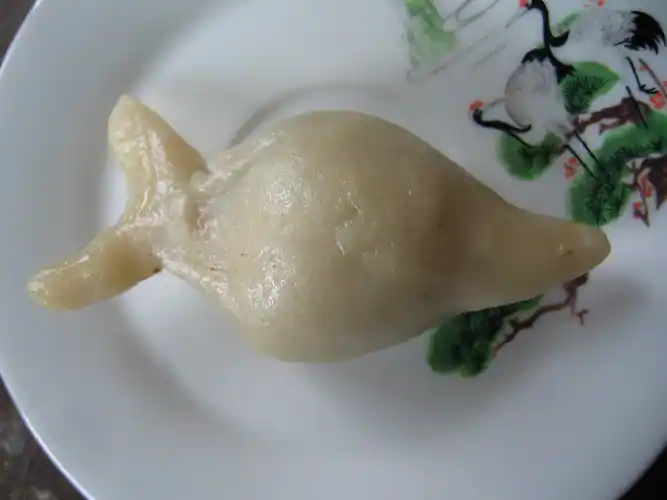yomari: (30, 72, 612, 333)
